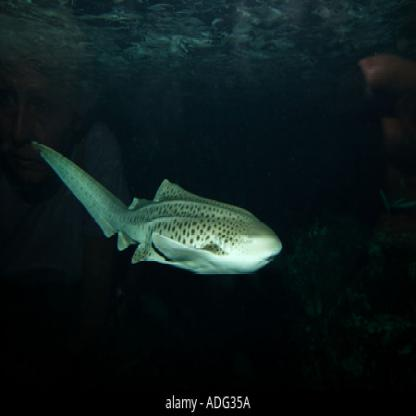zebra_shark: (30, 102, 290, 298)
